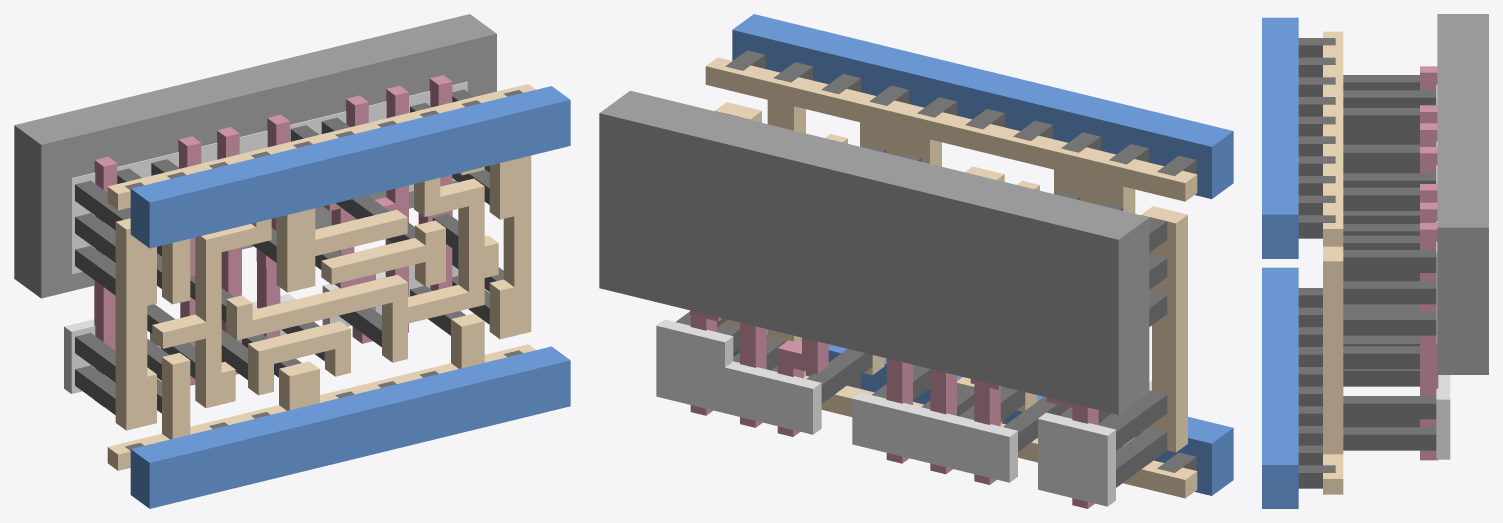
Rendered from sky130_fd_sc_hd__ha_1.gds.gltf.
The picture shows the model from 3 angles, left to right: view 1: azimuth 30°, elevation 25°; view 2: azimuth 150°, elevation 25°; view 3: azimuth 270°, elevation 25°; orthographic projection. The views are drawn at different scales.
Parts seen in each view (by area): view 1: sky130_fd_sc_hd__ha_1_li1, sky130_fd_sc_hd__ha_1_met1, sky130_fd_sc_hd__ha_1_nwell, sky130_fd_sc_hd__ha_1_licon, sky130_fd_sc_hd__ha_1_poly, sky130_fd_sc_hd__ha_1_diff, sky130_fd_sc_hd__ha_1_mcon; view 2: sky130_fd_sc_hd__ha_1_nwell, sky130_fd_sc_hd__ha_1_li1, sky130_fd_sc_hd__ha_1_met1, sky130_fd_sc_hd__ha_1_diff, sky130_fd_sc_hd__ha_1_licon, sky130_fd_sc_hd__ha_1_poly, sky130_fd_sc_hd__ha_1_mcon; view 3: sky130_fd_sc_hd__ha_1_licon, sky130_fd_sc_hd__ha_1_nwell, sky130_fd_sc_hd__ha_1_met1, sky130_fd_sc_hd__ha_1_mcon, sky130_fd_sc_hd__ha_1_li1, sky130_fd_sc_hd__ha_1_poly, sky130_fd_sc_hd__ha_1_diff.
Part boxes in pixels (x1,y1,x2,y2): sky130_fd_sc_hd__ha_1_li1: (107, 84, 535, 470); sky130_fd_sc_hd__ha_1_met1: (130, 86, 570, 508); sky130_fd_sc_hd__ha_1_nwell: (14, 14, 496, 298); sky130_fd_sc_hd__ha_1_licon: (75, 89, 503, 414); sky130_fd_sc_hd__ha_1_poly: (94, 75, 452, 406); sky130_fd_sc_hd__ha_1_diff: (64, 81, 467, 393); sky130_fd_sc_hd__ha_1_mcon: (125, 90, 522, 450); sky130_fd_sc_hd__ha_1_nwell: (599, 90, 1149, 414); sky130_fd_sc_hd__ha_1_li1: (705, 57, 1197, 498); sky130_fd_sc_hd__ha_1_met1: (732, 14, 1233, 495); sky130_fd_sc_hd__ha_1_diff: (656, 319, 1115, 506); sky130_fd_sc_hd__ha_1_licon: (676, 113, 1167, 487); sky130_fd_sc_hd__ha_1_poly: (690, 310, 1098, 508); sky130_fd_sc_hd__ha_1_mcon: (725, 50, 1196, 472); sky130_fd_sc_hd__ha_1_licon: (1343, 75, 1436, 450); sky130_fd_sc_hd__ha_1_nwell: (1437, 14, 1488, 374); sky130_fd_sc_hd__ha_1_met1: (1262, 17, 1298, 508); sky130_fd_sc_hd__ha_1_mcon: (1298, 38, 1335, 488); sky130_fd_sc_hd__ha_1_li1: (1323, 31, 1343, 494); sky130_fd_sc_hd__ha_1_poly: (1420, 66, 1438, 460); sky130_fd_sc_hd__ha_1_diff: (1436, 84, 1450, 459).
Size of the model in its own units: 4.98 by 3.2 by 2.24.
